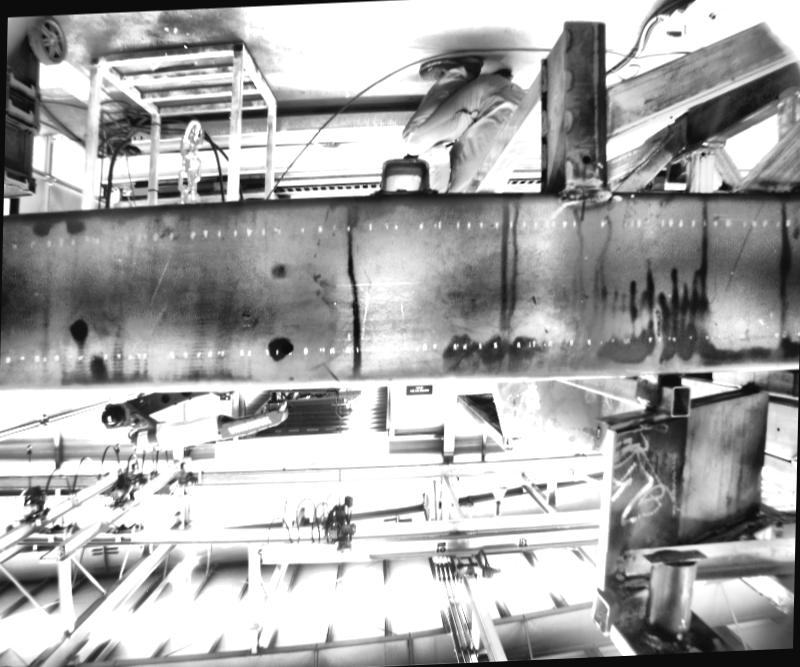bracket: (360, 154, 444, 198)
hole: (580, 151, 592, 165), (279, 340, 289, 354)
welding: (558, 180, 614, 202)
